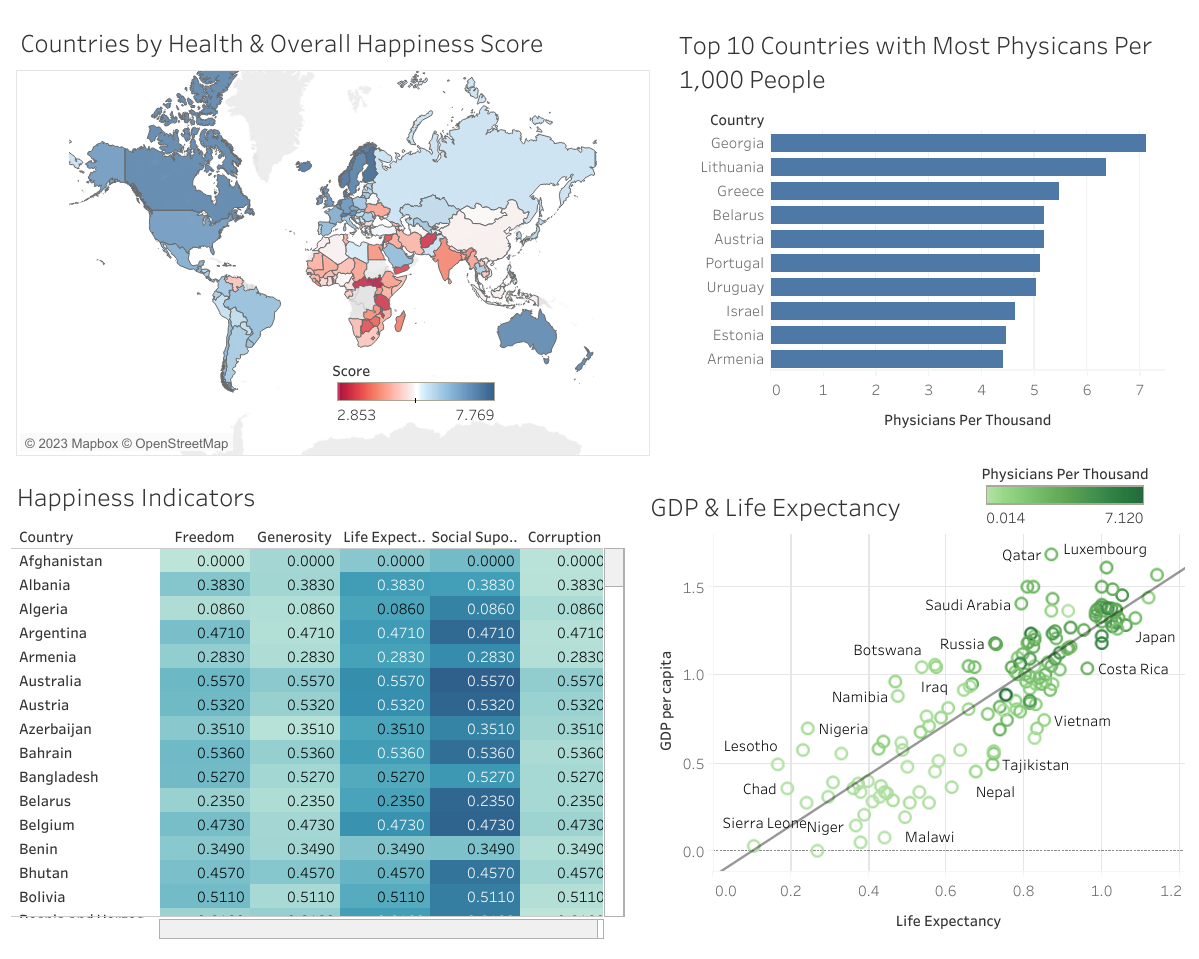

Layout of this report page (visuals, bound fields, positions):
{"tool":"tableau","page":{"name":"Dashboard 1","canvas":[1000,800],"ordinal":0},"visuals":[{"type":"worksheet","title":"Map of Rank","mark":"Automatic","box":[13,15,529,365]},{"type":"worksheet","title":"Top 10 countries, physicians/1000","mark":"Automatic","rows":["country"],"cols":["physicians_per_thousand"],"box":[562,17,409,393]},{"type":"legend","title":"Map of Rank","param":"[federated.0sixqcs0l47hqz17a4m2o097rl0z].[sum:Score:qk]","box":[277,295,140,77]},{"type":"legend","title":"Scatter: GDP/Life Expectancy","param":"[federated.0sixqcs0l47hqz17a4m2o097rl0z].[sum:physicians_per_thousand:qk]","box":[818,381,140,80]},{"type":"worksheet","title":"Happiness Indicators","mark":"Square","rows":["country"],"box":[10,394,511,389]},{"type":"worksheet","title":"Scatter: GDP/Life Expectancy","mark":"Automatic","rows":["GDP_per_capita"],"cols":["life_expectancy"],"box":[538,402,449,381]}]}

Visuals, with their boxes in screenshot pixels (x1, y1, x2, y2), scaled from the page's 1000x800 canvas onto the 1199x959 screenshot:
"Map of Rank" worksheet: (left=16, top=18, right=650, bottom=456)
"Top 10 countries, physicians/1000" worksheet: (left=674, top=20, right=1164, bottom=491)
"Map of Rank" legend: (left=332, top=354, right=500, bottom=446)
"Scatter: GDP/Life Expectancy" legend: (left=981, top=457, right=1149, bottom=553)
"Happiness Indicators" worksheet (Square marks): (left=12, top=472, right=625, bottom=939)
"Scatter: GDP/Life Expectancy" worksheet: (left=645, top=482, right=1183, bottom=939)
